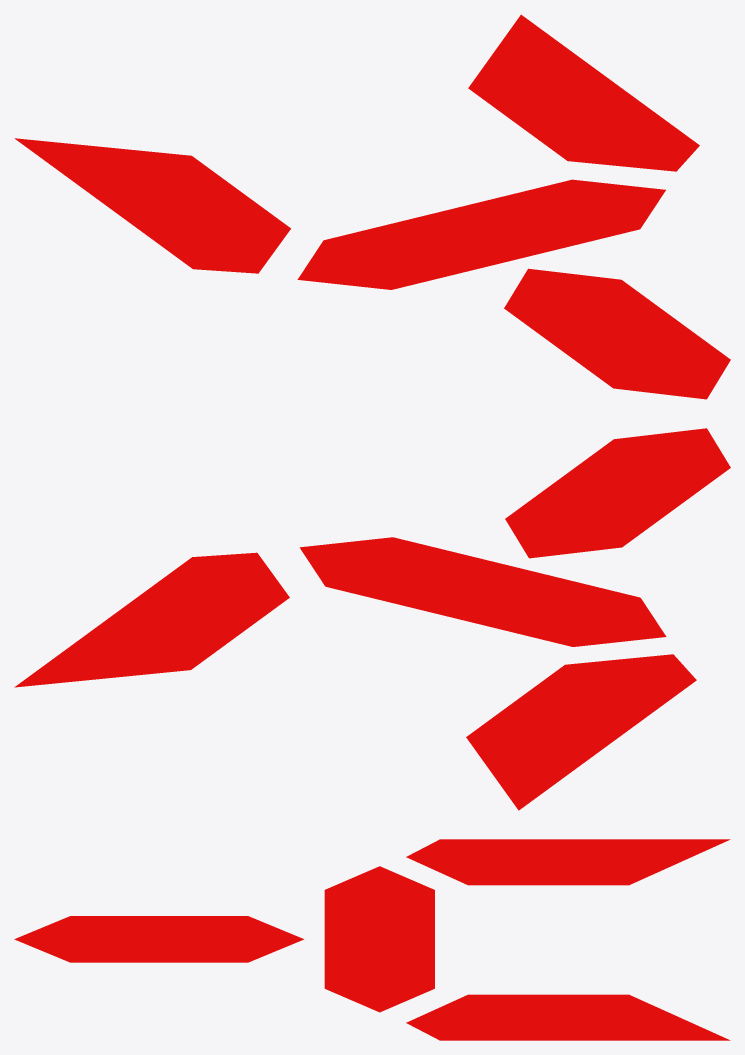
File: BinaryFont_Y.fbx
3 renders of one model, top to bottom at view 1: azimuth 30°, elevation 25°; view 2: azimuth 150°, elevation 25°; view 3: azimuth 270°, elevation 25°, orthographic. The views are drawn at different scales.
Visible parts, largest first — view 1: BinaryFont_Y; view 2: BinaryFont_Y; view 3: BinaryFont_Y.
Part boxes in pixels (x1,y1,x2,y2): BinaryFont_Y: [14, 14, 730, 399]; BinaryFont_Y: [14, 428, 730, 810]; BinaryFont_Y: [14, 839, 730, 1040].
Bounding box in the file's own units: 17.08 × 3.07e-06 × 25.72.
